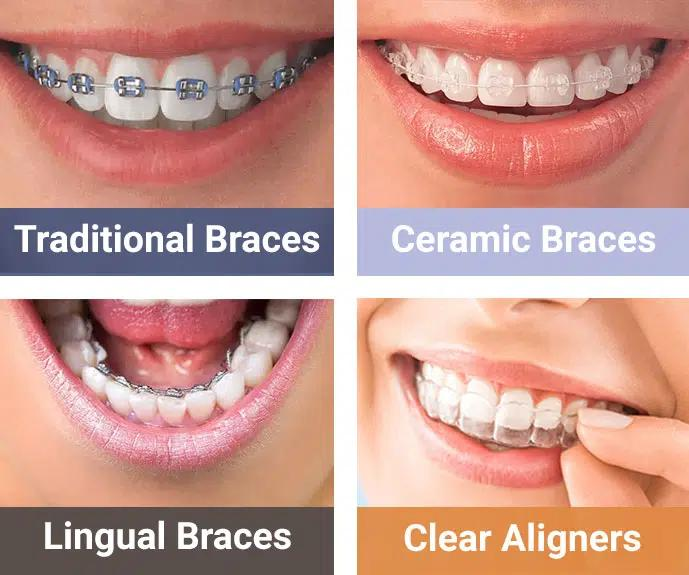Braces: (79, 306, 269, 414), (20, 50, 336, 111), (386, 47, 663, 104)
